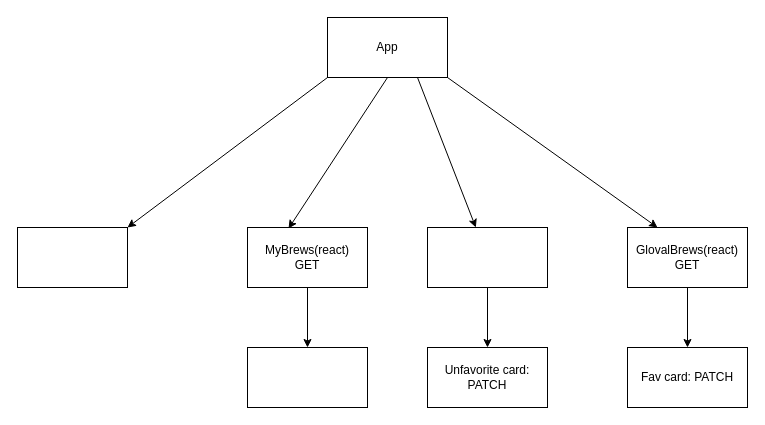
The diagram is 765 pixels wide and 425 high, and some of its shapes have lost their labels. The box of each missing label's shape, as (x1, y1, x2, y2) in pixels:
Favorites(react) GET: (426, 226, 548, 288)
Home(react) POST: (16, 226, 128, 288)
Modal Edit/Delete: PATCH/DELETE: (246, 346, 368, 408)
